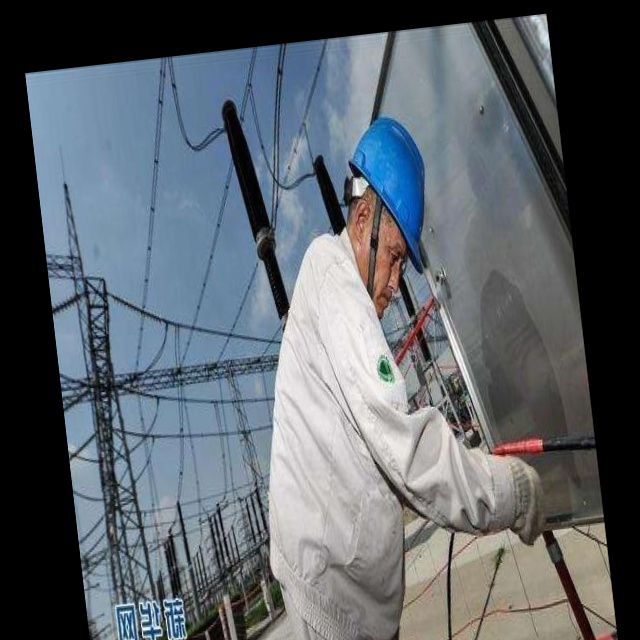Con_Casco: (341, 115, 439, 309)
